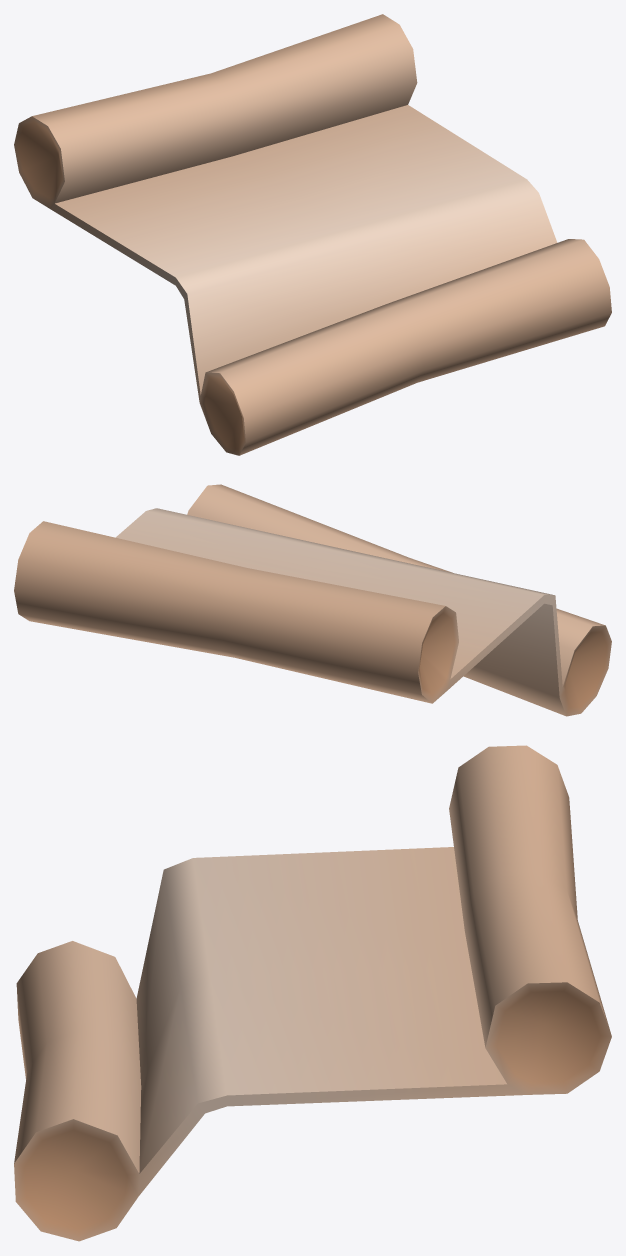
File: PaperScrollOpen4.fbx
3 renders of one model, top to bottom at view 1: azimuth 30°, elevation 25°; view 2: azimuth 150°, elevation 25°; view 3: azimuth 270°, elevation 25°, orthographic. The views are drawn at different scales.
Parts seen in each view (by area): view 1: PaperScrollOpen4; view 2: PaperScrollOpen4; view 3: PaperScrollOpen4.
Part boxes in pixels (x1,y1,x2,y2): PaperScrollOpen4: [14, 14, 611, 455]; PaperScrollOpen4: [14, 484, 611, 716]; PaperScrollOpen4: [14, 745, 611, 1241].
Size of the model in its own units: 23.97 by 12.89 by 23.56.
